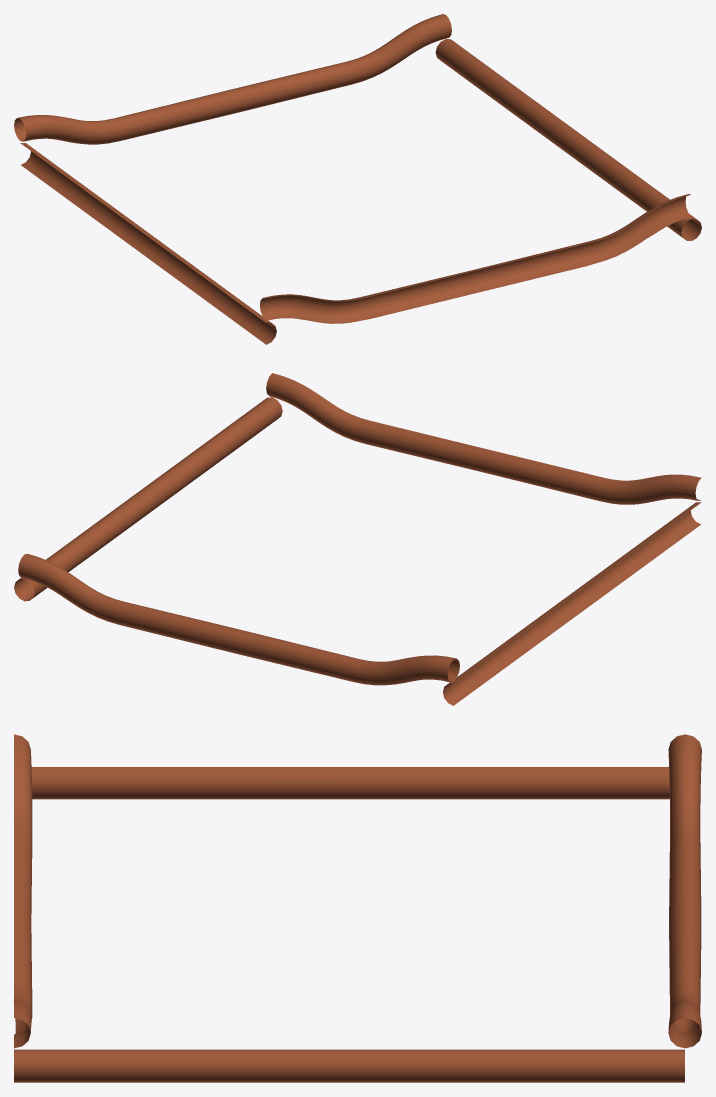
File: SM_tileSol_Corner_RightTop.fbx
3 views of the same model, one above another, from view 1: azimuth 30°, elevation 25°; view 2: azimuth 150°, elevation 25°; view 3: azimuth 270°, elevation 25° (orthographic). The views are drawn at different scales.
Parts seen in each view (by area): view 1: SM_tileSol_Corner_RightTop; view 2: SM_tileSol_Corner_RightTop; view 3: SM_tileSol_Corner_RightTop.
Boxes of the visible parts, <box> form: SM_tileSol_Corner_RightTop: <box>14,14,701,344</box>; SM_tileSol_Corner_RightTop: <box>14,373,701,705</box>; SM_tileSol_Corner_RightTop: <box>14,734,701,1082</box>.
Bounding box in the file's own units: 205 × 20.84 × 205.
